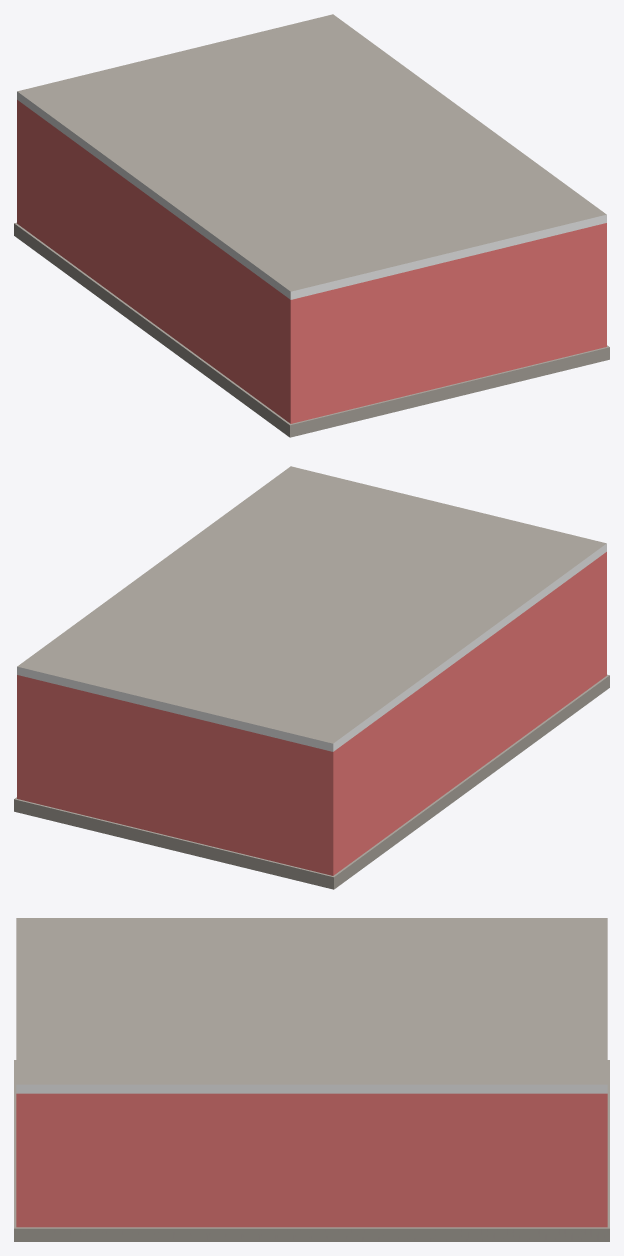
Rendered from SmallFloor.fbx.
The picture shows the model from 3 angles, top to bottom: view 1: azimuth 30°, elevation 25°; view 2: azimuth 150°, elevation 25°; view 3: azimuth 270°, elevation 25°; orthographic projection. The views are drawn at different scales.
Visible parts, largest first — view 1: SmallFloor; view 2: SmallFloor; view 3: SmallFloor.
Part boxes in pixels (left/top/right/bottom): SmallFloor: left=14, top=14, right=609, bottom=437; SmallFloor: left=14, top=466, right=609, bottom=889; SmallFloor: left=14, top=918, right=609, bottom=1241.
Bounding box in the file's own units: 1620 × 700 × 2420.
